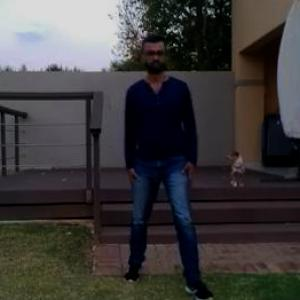follow: (123, 38, 183, 283)
